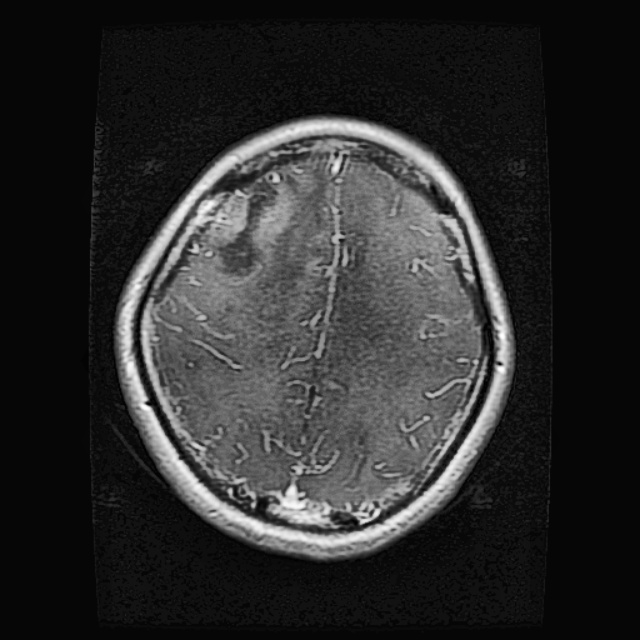Glioma: (197, 163, 317, 285)
